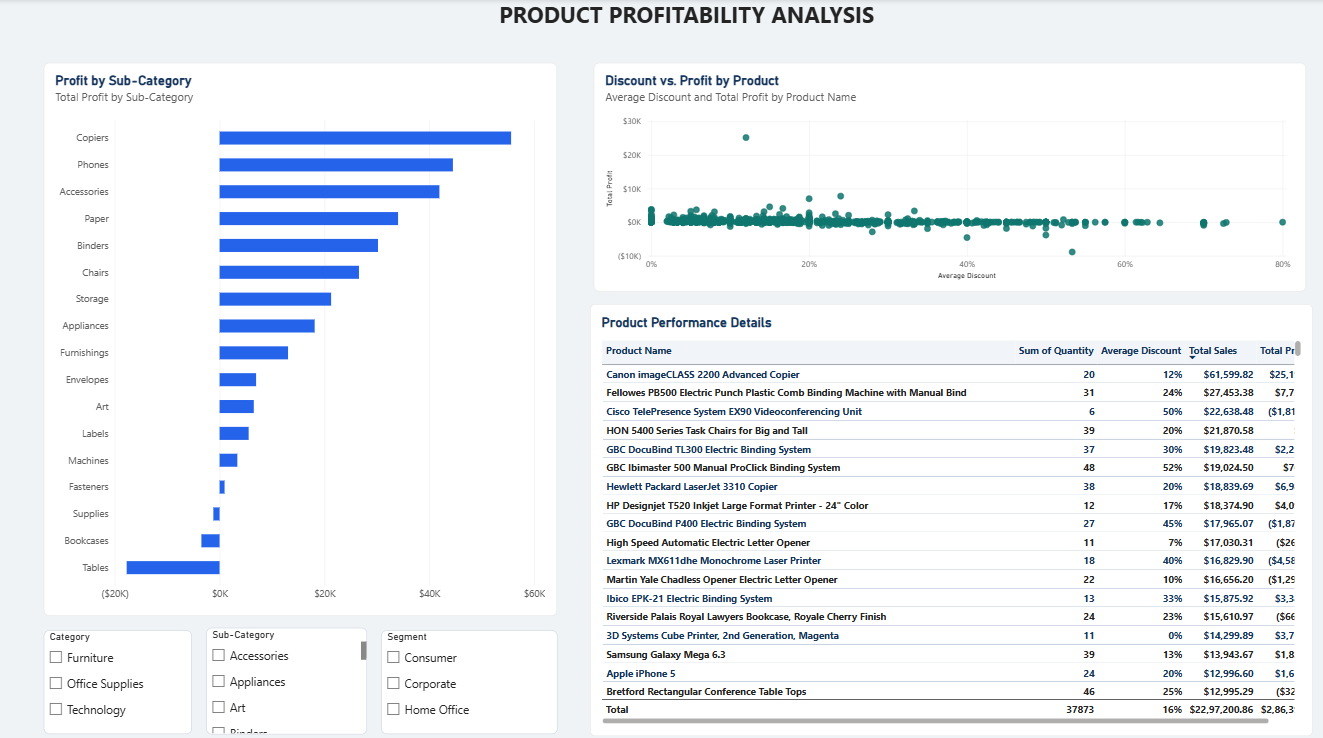

This screenshot's page, from the dashboard's own definition file:
{"tool":"powerbi","page":{"name":"Page 2","canvas":[1920,1080],"ordinal":1},"visuals":[{"type":"clusteredBarChart","title":"Profit by Sub-Category","fields":{"Category":["Sample_Superstore.Sub-Category"],"Y":["Sample_Superstore.Total Profit"]},"box":[63.8,92.6,743.1,800.7],"z":0},{"type":"tableEx","title":"Product Performance Details","fields":{"Values":["Sample_Superstore.Product Name","Sum(Sample_Superstore.Quantity)","Sample_Superstore.Average Discount","Sample_Superstore.Total Sales","Sample_Superstore.Total Profit"]},"box":[853.5,441.9,1046.5,625.6],"z":1000},{"type":"scatterChart","title":"Discount vs. Profit by Product","fields":{"Category":["Sample_Superstore.Product Name"],"Y":["Sample_Superstore.Total Profit"],"X":["Sample_Superstore.Average Discount"]},"box":[860.4,92.6,1031.2,331.4],"z":2000},{"type":"textbox","box":[463.1,0,1062.1,92.6],"z":3000},{"type":"slicer","fields":{"Values":["Sample_Superstore.Category"]},"box":[63.8,913.9,214.1,150.3],"z":4000},{"type":"slicer","fields":{"Values":["Sample_Superstore.Sub-Category"]},"box":[298.5,909.8,232.6,154.4],"z":5000},{"type":"slicer","fields":{"Values":["Sample_Superstore.Segment"]},"box":[551.6,913.9,255.2,150.3],"z":6000}]}

Visuals, with their boxes in screenshot pixels (x1, y1, x2, y2), scaled from the page's 1920x1080 canvas onto the 1323x738 screenshot:
"Profit by Sub-Category" clusteredBarChart: (44,63,556,610)
"Product Performance Details" tableEx: (588,302,1309,729)
"Discount vs. Profit by Product" scatterChart: (593,63,1303,290)
textbox: (319,0,1051,63)
slicer - Sample_Superstore.Category: (44,624,191,727)
slicer - Sample_Superstore.Sub-Category: (206,622,366,727)
slicer - Sample_Superstore.Segment: (380,624,556,727)
